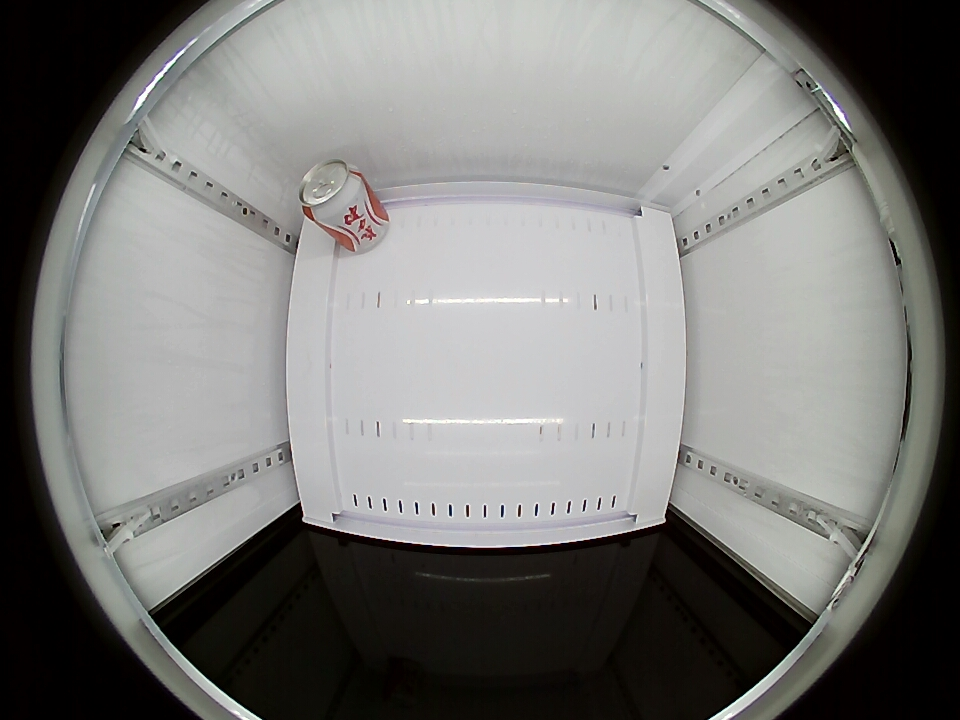jianlibao: (298, 159, 365, 224)
